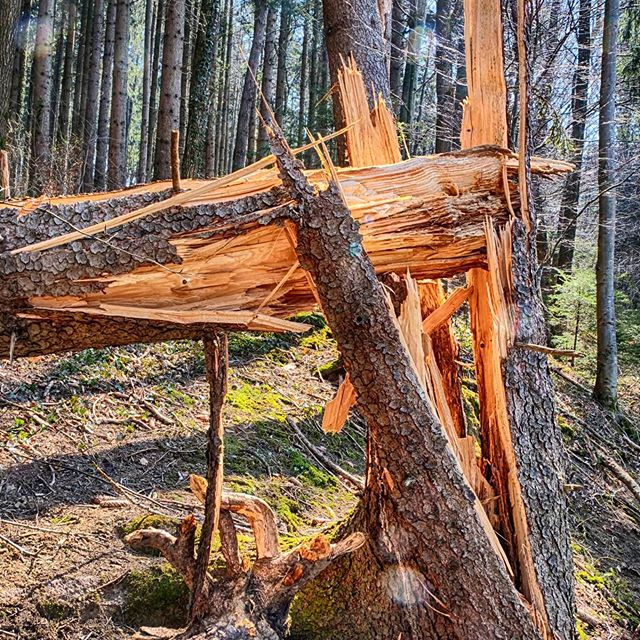tree: (35, 115, 584, 596)
vegetation: (1, 1, 633, 628)
